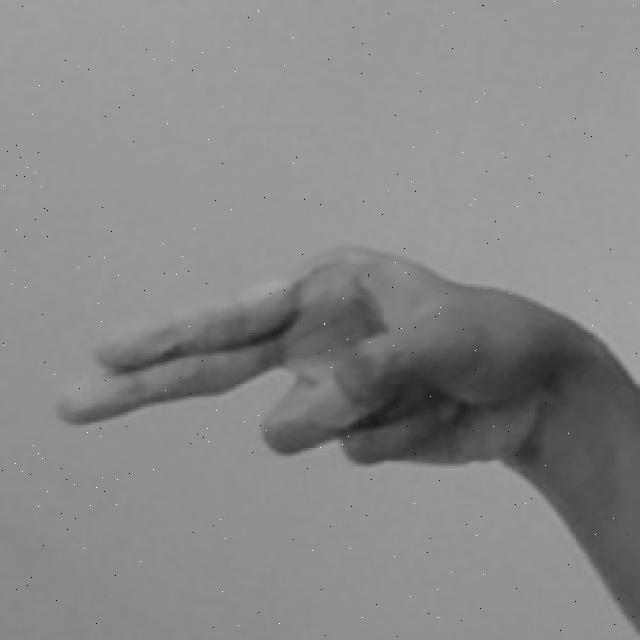H: (56, 243, 640, 640), (51, 243, 640, 632)
